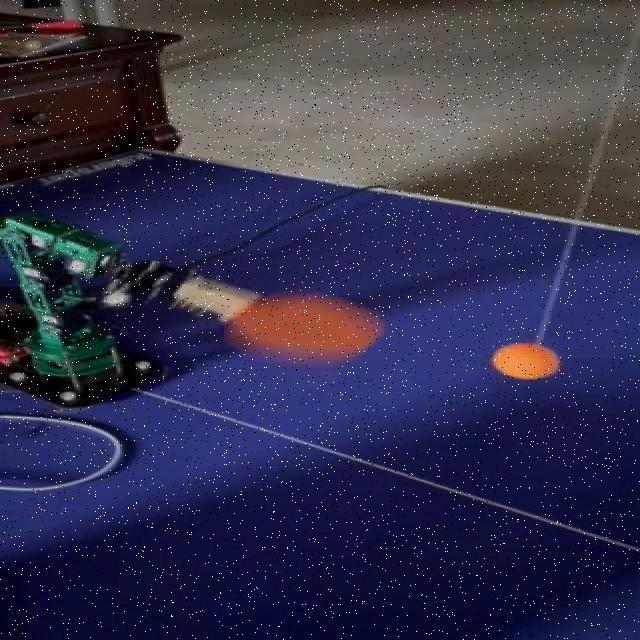ping-pong-ball: (494, 342, 560, 378)
